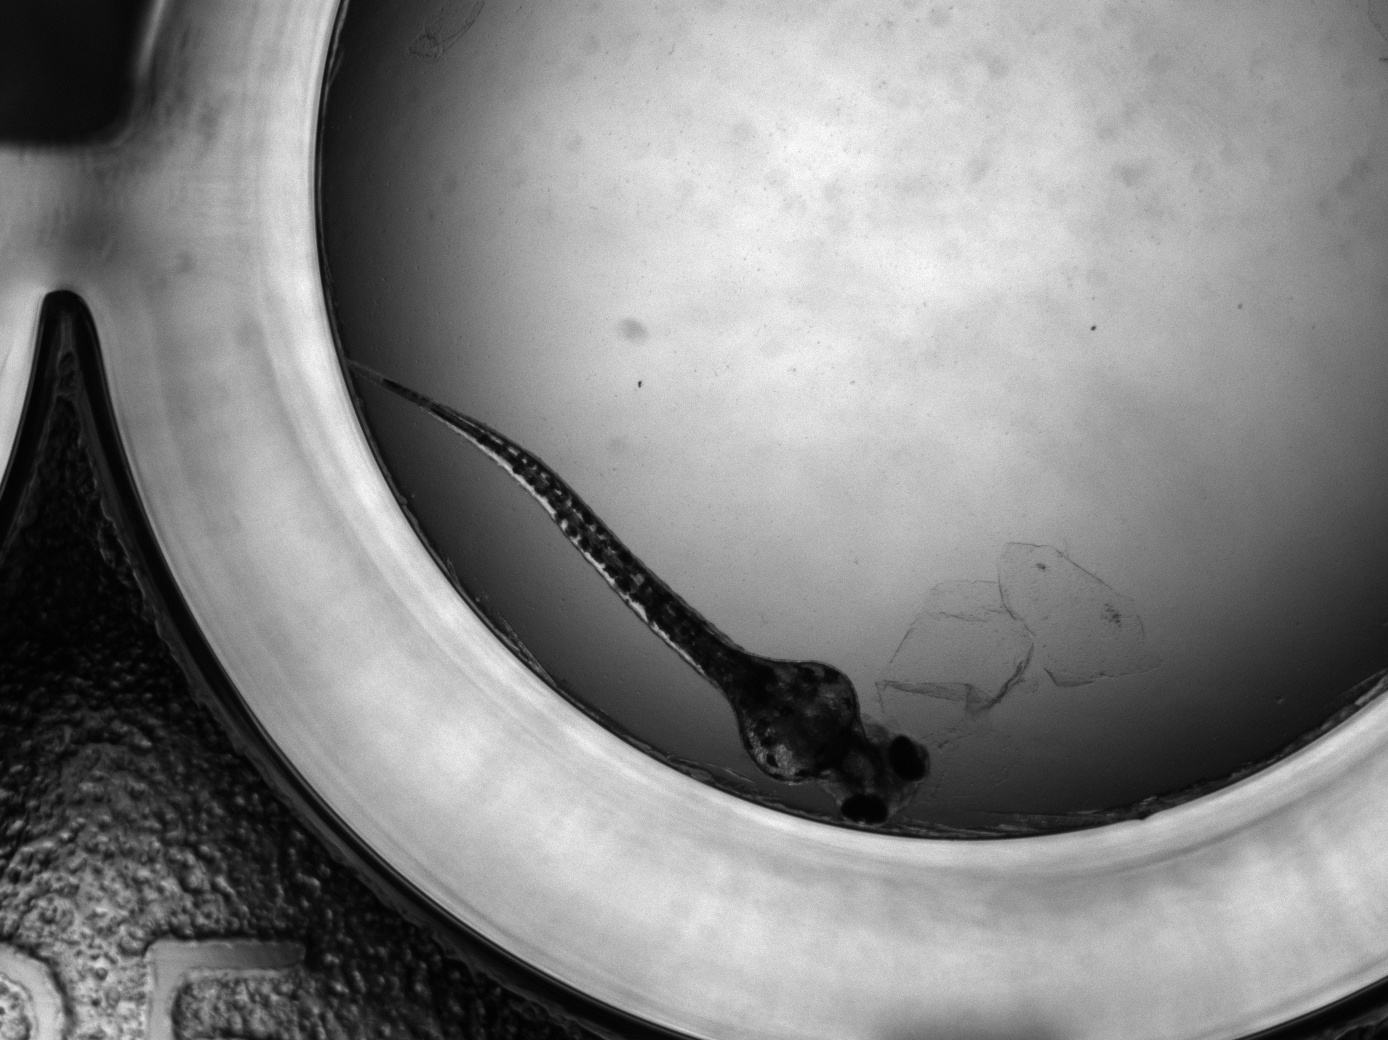debris: (874, 542, 1148, 713)
embryo: (342, 358, 932, 829)
eye: (889, 735, 929, 782), (841, 795, 889, 826)
yolksac: (738, 661, 859, 784)
